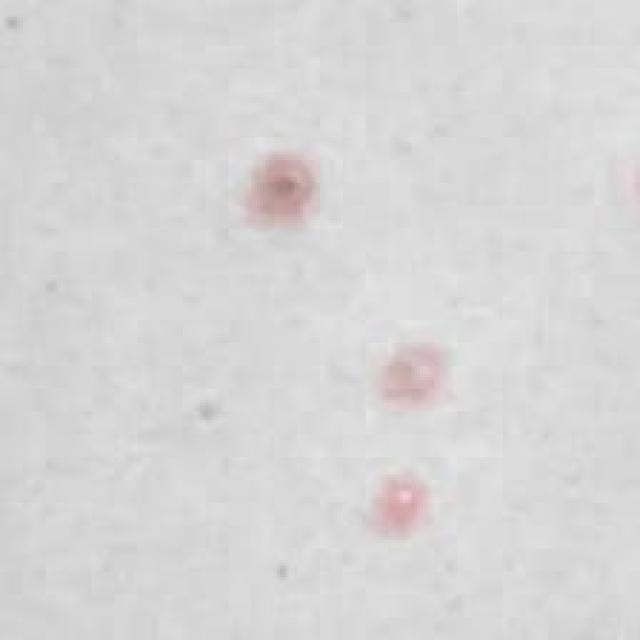monkeypox: (137, 121, 523, 588)
